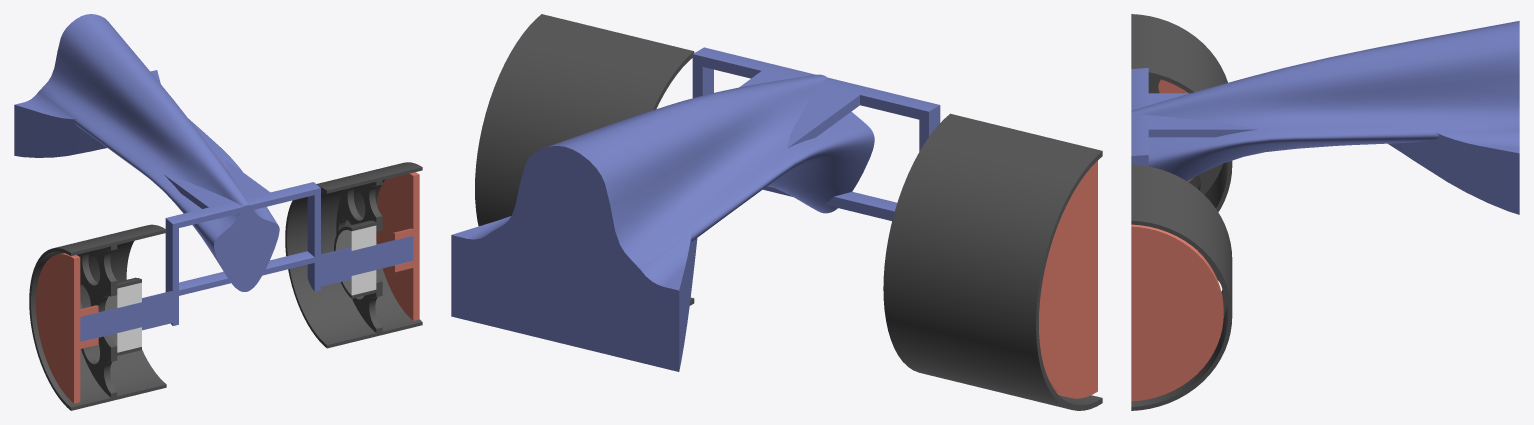
3 views of the same model, side by side, from view 1: azimuth 30°, elevation 25°; view 2: azimuth 150°, elevation 25°; view 3: azimuth 270°, elevation 25° (orthographic). The views are drawn at different scales.
Parts seen in each view (by area): view 1: Nase, Body2_node, Body2, Body1_node_1, Body1_node_0, Body1_node, Body1; view 2: Nase, Body2, Body2_node, Body1_node_1; view 3: Nase, Body1_node_0, Body2_node, Body2.
Boxes of the visible parts, box(x1,y1,x2,y2) form: Nase: box(14, 14, 413, 341); Body2_node: box(285, 162, 422, 348); Body2: box(29, 224, 166, 410); Body1_node_1: box(36, 253, 98, 403); Body1_node_0: box(376, 172, 419, 320); Body1_node: box(335, 225, 376, 295); Body1: box(105, 282, 141, 352); Nase: box(451, 47, 940, 371); Body2: box(883, 113, 1102, 410); Body2_node: box(475, 14, 694, 305); Body1_node_1: box(1039, 160, 1097, 398); Nase: box(1131, 21, 1519, 214); Body1_node_0: box(1131, 224, 1223, 401); Body2_node: box(1131, 164, 1232, 410); Body2: box(1131, 14, 1232, 211).
Size of the model in its own units: 57 by 36.49 by 45.23.
